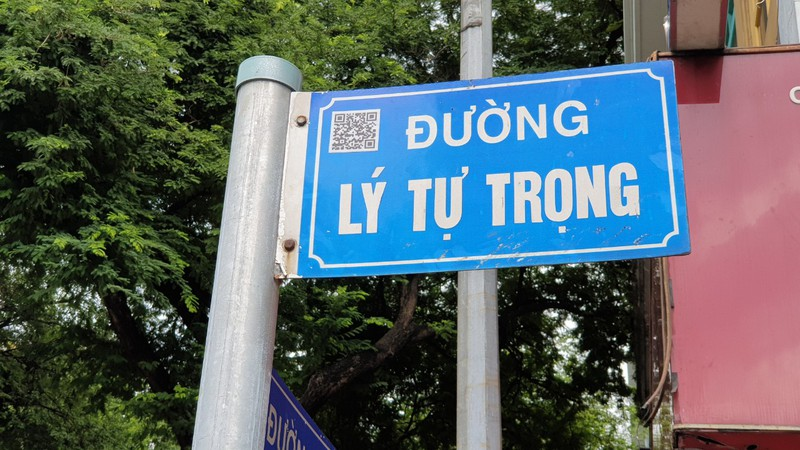streetname: (275, 50, 691, 276)
